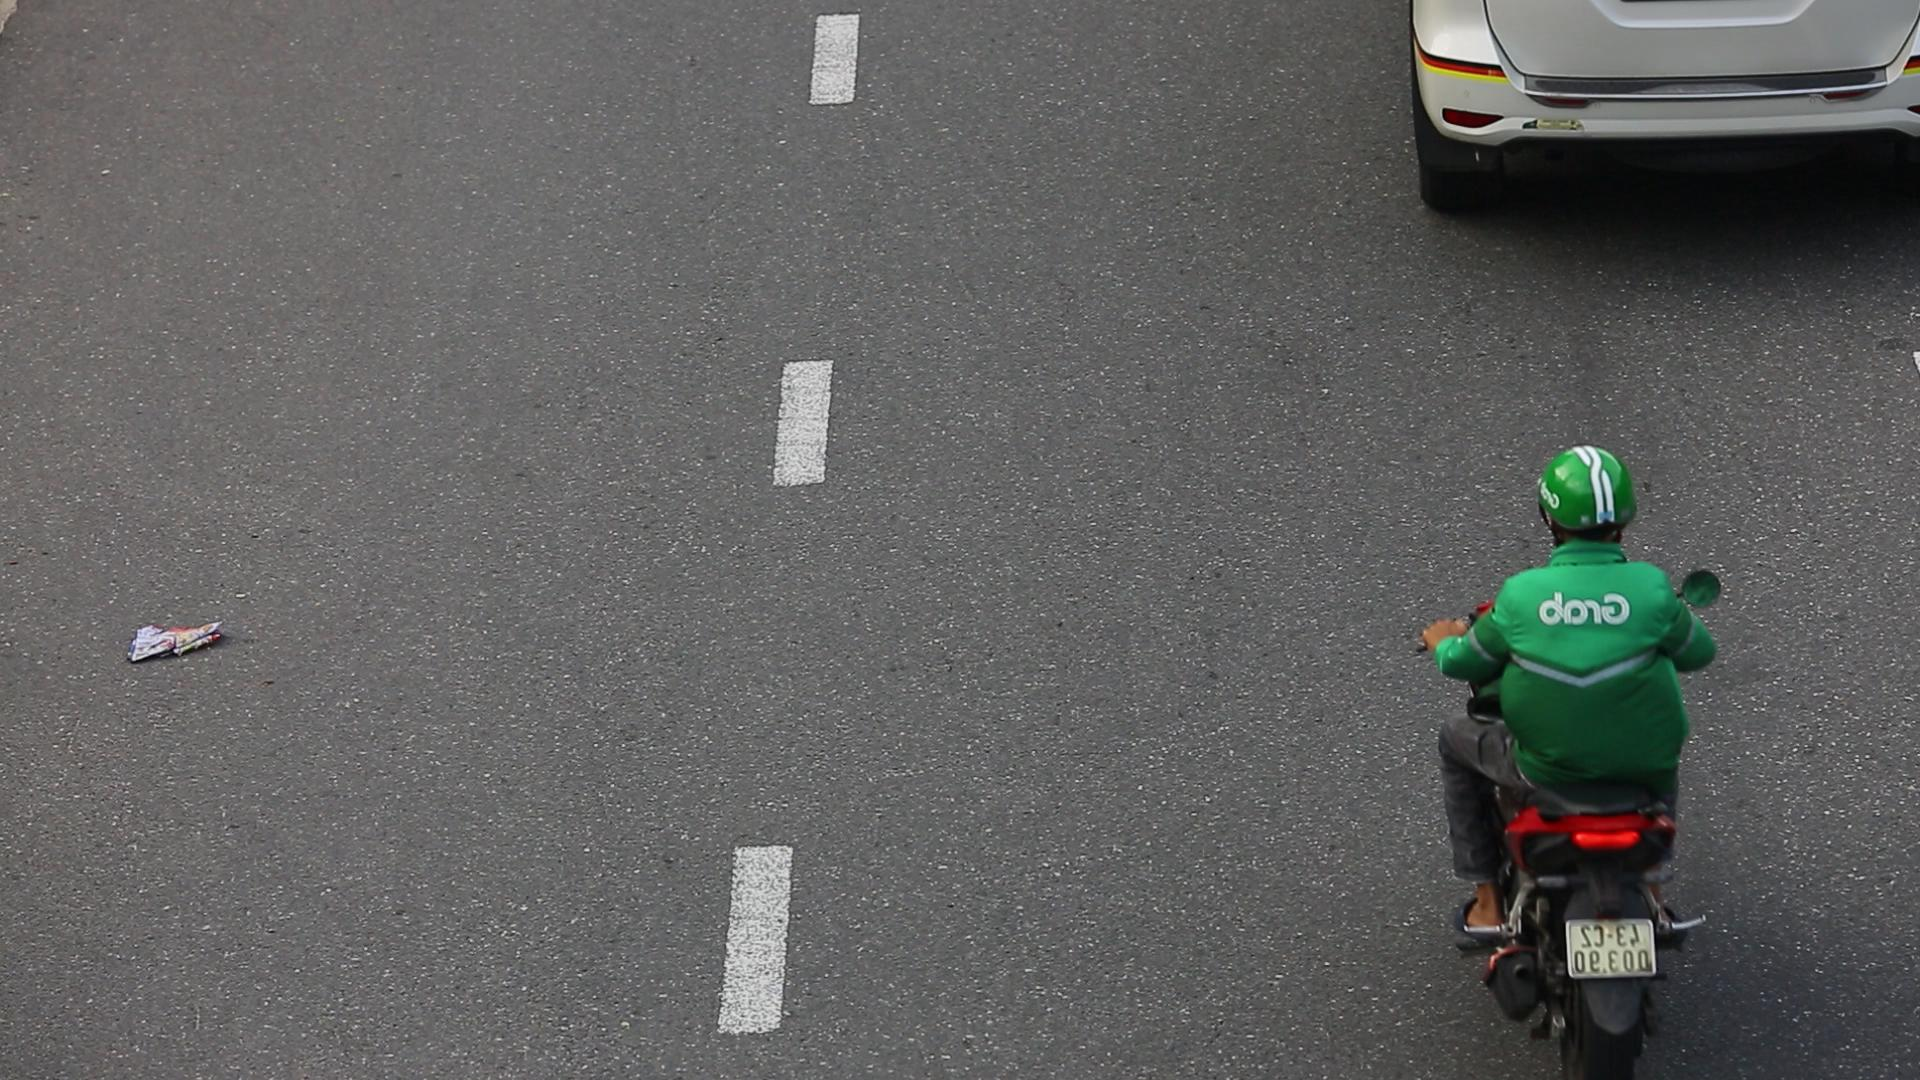motobike: (1429, 440, 1735, 1075)
